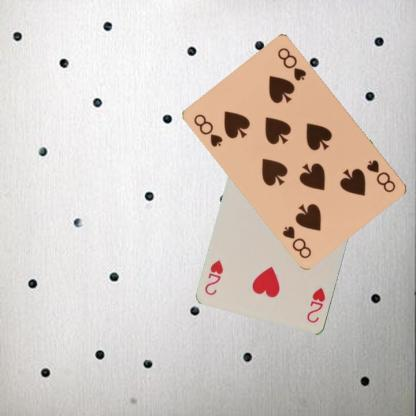2h: (305, 285, 327, 325)
8s: (364, 157, 398, 194), (191, 111, 225, 148)
